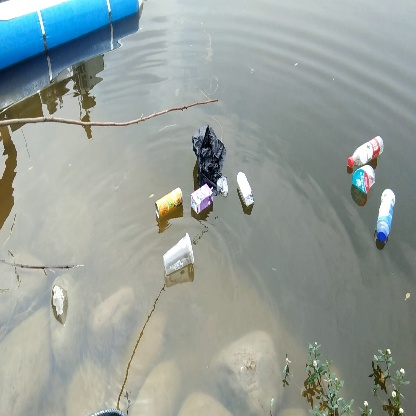bottle: (160, 233, 198, 276), (374, 185, 398, 244), (344, 134, 385, 167), (152, 185, 185, 224)
milk-box: (188, 184, 218, 222), (234, 170, 259, 207)
plastic-bag: (192, 130, 233, 181)
